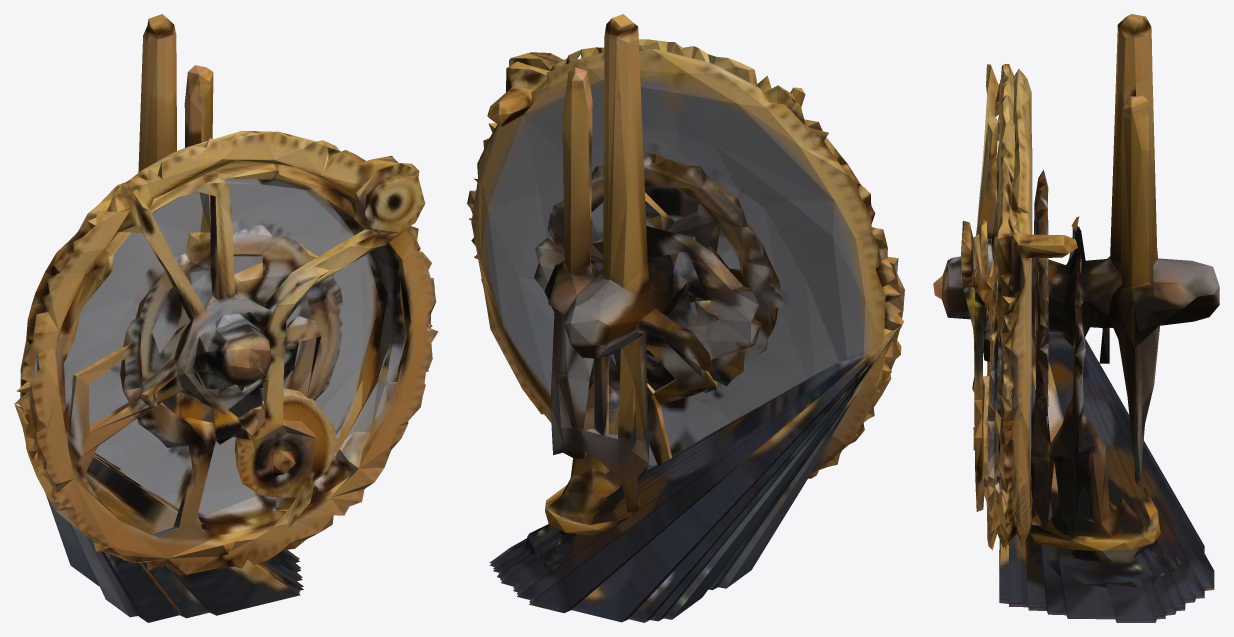
Rendered from clock_gears.glb.
3 views of the same model, side by side, from view 1: azimuth 30°, elevation 25°; view 2: azimuth 150°, elevation 25°; view 3: azimuth 270°, elevation 25° (orthographic). The views are drawn at different scales.
Parts seen in each view (by area): view 1: textured_mesh.obj; view 2: textured_mesh.obj; view 3: textured_mesh.obj.
Part boxes in pixels (x1,y1,x2,y2): textured_mesh.obj: (14,14,438,622); textured_mesh.obj: (467,14,904,622); textured_mesh.obj: (933,14,1219,622).
Bounding box in the file's own units: 2.01 × 2.5 × 1.18.
1 material, 1 textured.
